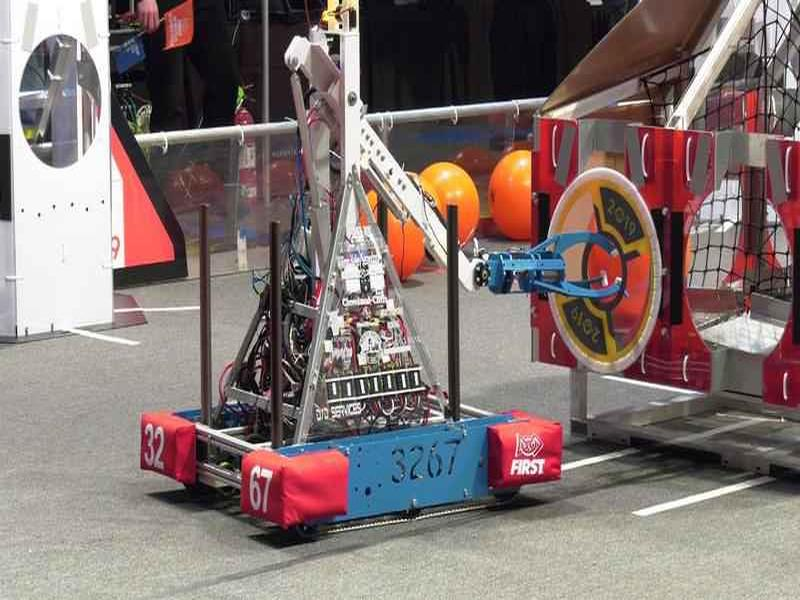robot: (130, 30, 563, 531)
